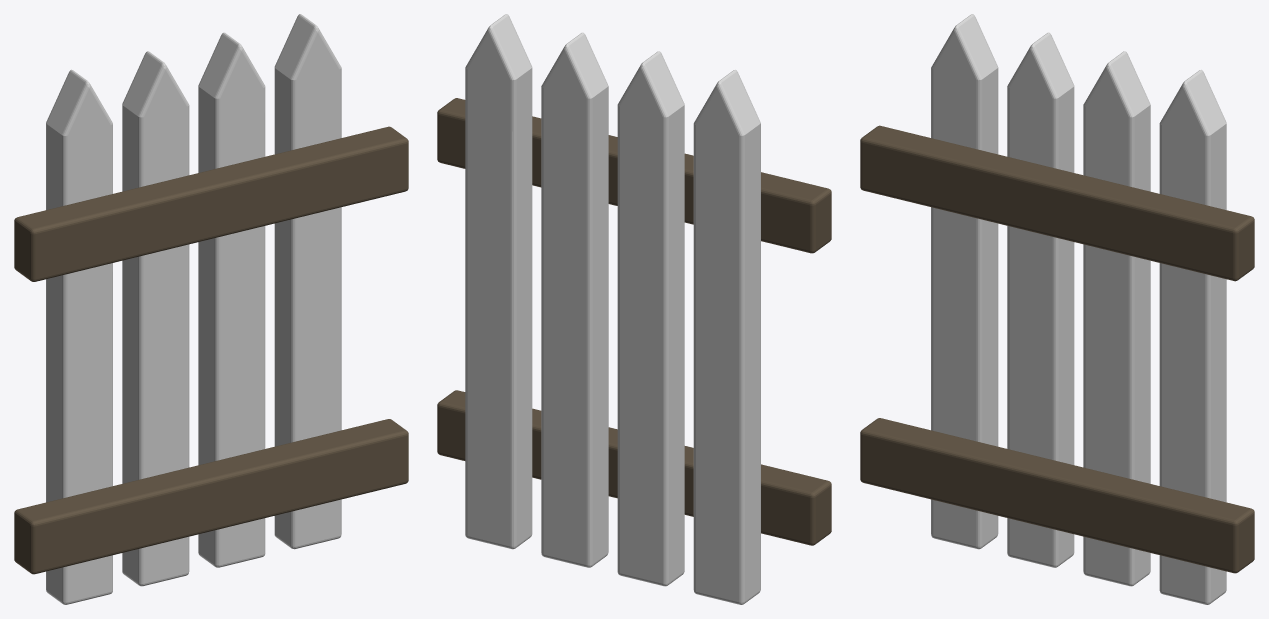
Rendered from FenceShort.fbx.
3 views of the same model, side by side, from view 1: azimuth 30°, elevation 25°; view 2: azimuth 150°, elevation 25°; view 3: azimuth 330°, elevation 25° (orthographic).
Visible parts, largest first — view 1: Cube, Cube.001; view 2: Cube, Cube.001; view 3: Cube, Cube.001.
Part boxes in pixels (left/top/right/bottom): Cube: left=46, top=14, right=341, bottom=604; Cube.001: left=14, top=126, right=408, bottom=574; Cube: left=465, top=14, right=760, bottom=604; Cube.001: left=437, top=98, right=831, bottom=545; Cube: left=931, top=14, right=1226, bottom=604; Cube.001: left=860, top=125, right=1254, bottom=573.
Bounding box in the file's own units: 821 × 1075 × 147.
